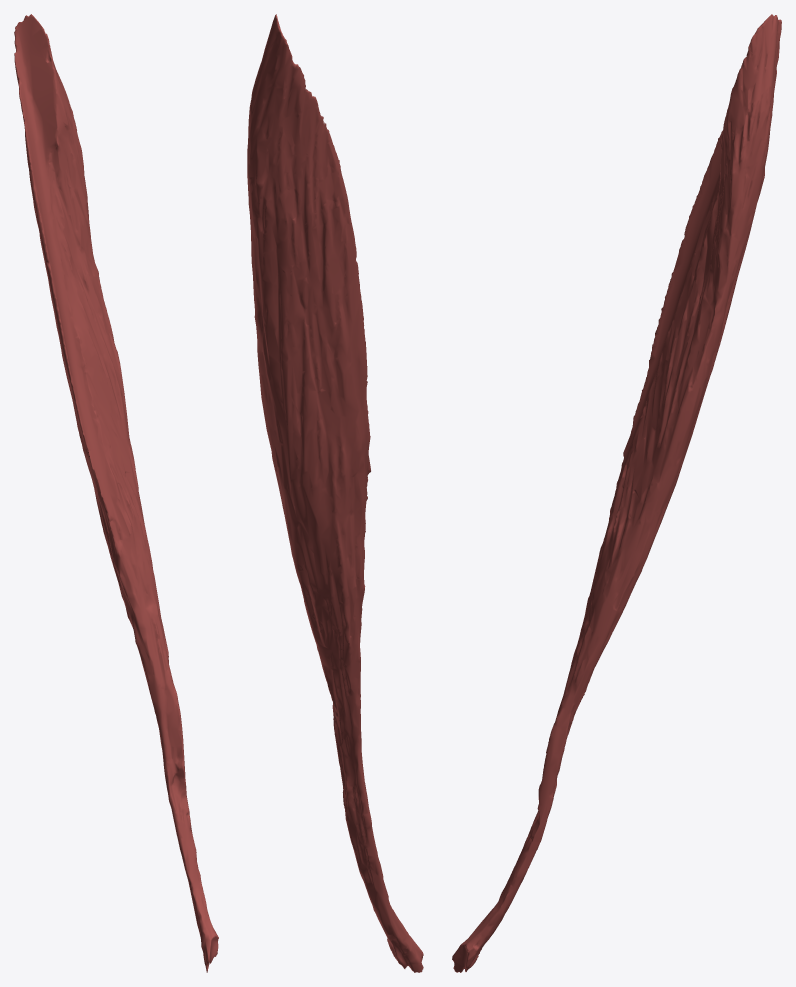
3 renders of one model, left to right at view 1: azimuth 30°, elevation 25°; view 2: azimuth 150°, elevation 25°; view 3: azimuth 270°, elevation 25°, orthographic. The views are drawn at different scales.
Parts seen in each view (by area): view 1: BP46; view 2: BP46; view 3: BP46.
Boxes of the visible parts, x1,y1,x2,y2 form: BP46: [14, 14, 218, 972]; BP46: [247, 14, 423, 972]; BP46: [452, 14, 781, 972].
Bounding box in the file's own units: 0.0169 × 0.1828 × 0.058.
